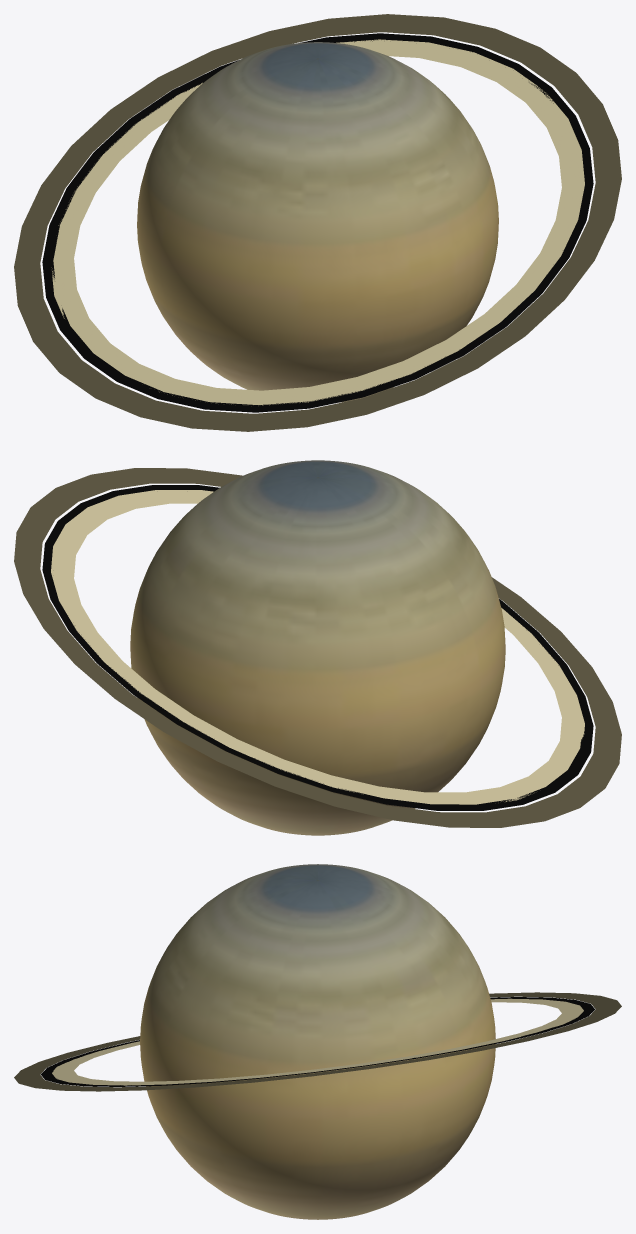
The model's file is Saturn.glb.
3 views of the same model, one above another, from view 1: azimuth 30°, elevation 25°; view 2: azimuth 150°, elevation 25°; view 3: azimuth 270°, elevation 25° (orthographic). The views are drawn at different scales.
Visible parts, largest first — view 1: Sphere, Circle, Circle.001, Circle.002; view 2: Sphere, Circle, Circle.001, Circle.002; view 3: Sphere, Circle, Circle.001, Circle.002.
Part boxes in pixels (box(x1,y1,x2,y2)): Sphere: box(137, 42, 498, 402); Circle: box(14, 14, 621, 431); Circle.001: box(51, 39, 584, 405); Circle.002: box(42, 33, 593, 412); Sphere: box(130, 460, 505, 835); Circle: box(14, 468, 621, 827); Circle.001: box(51, 490, 584, 804); Circle.002: box(42, 485, 593, 810); Sphere: box(140, 864, 495, 1219); Circle: box(14, 992, 621, 1091); Circle.001: box(52, 998, 583, 1085); Circle.002: box(41, 997, 594, 1086).
Size of the model in its own units: 3.26 by 2 by 3.42.
4 materials, 1 textured.
